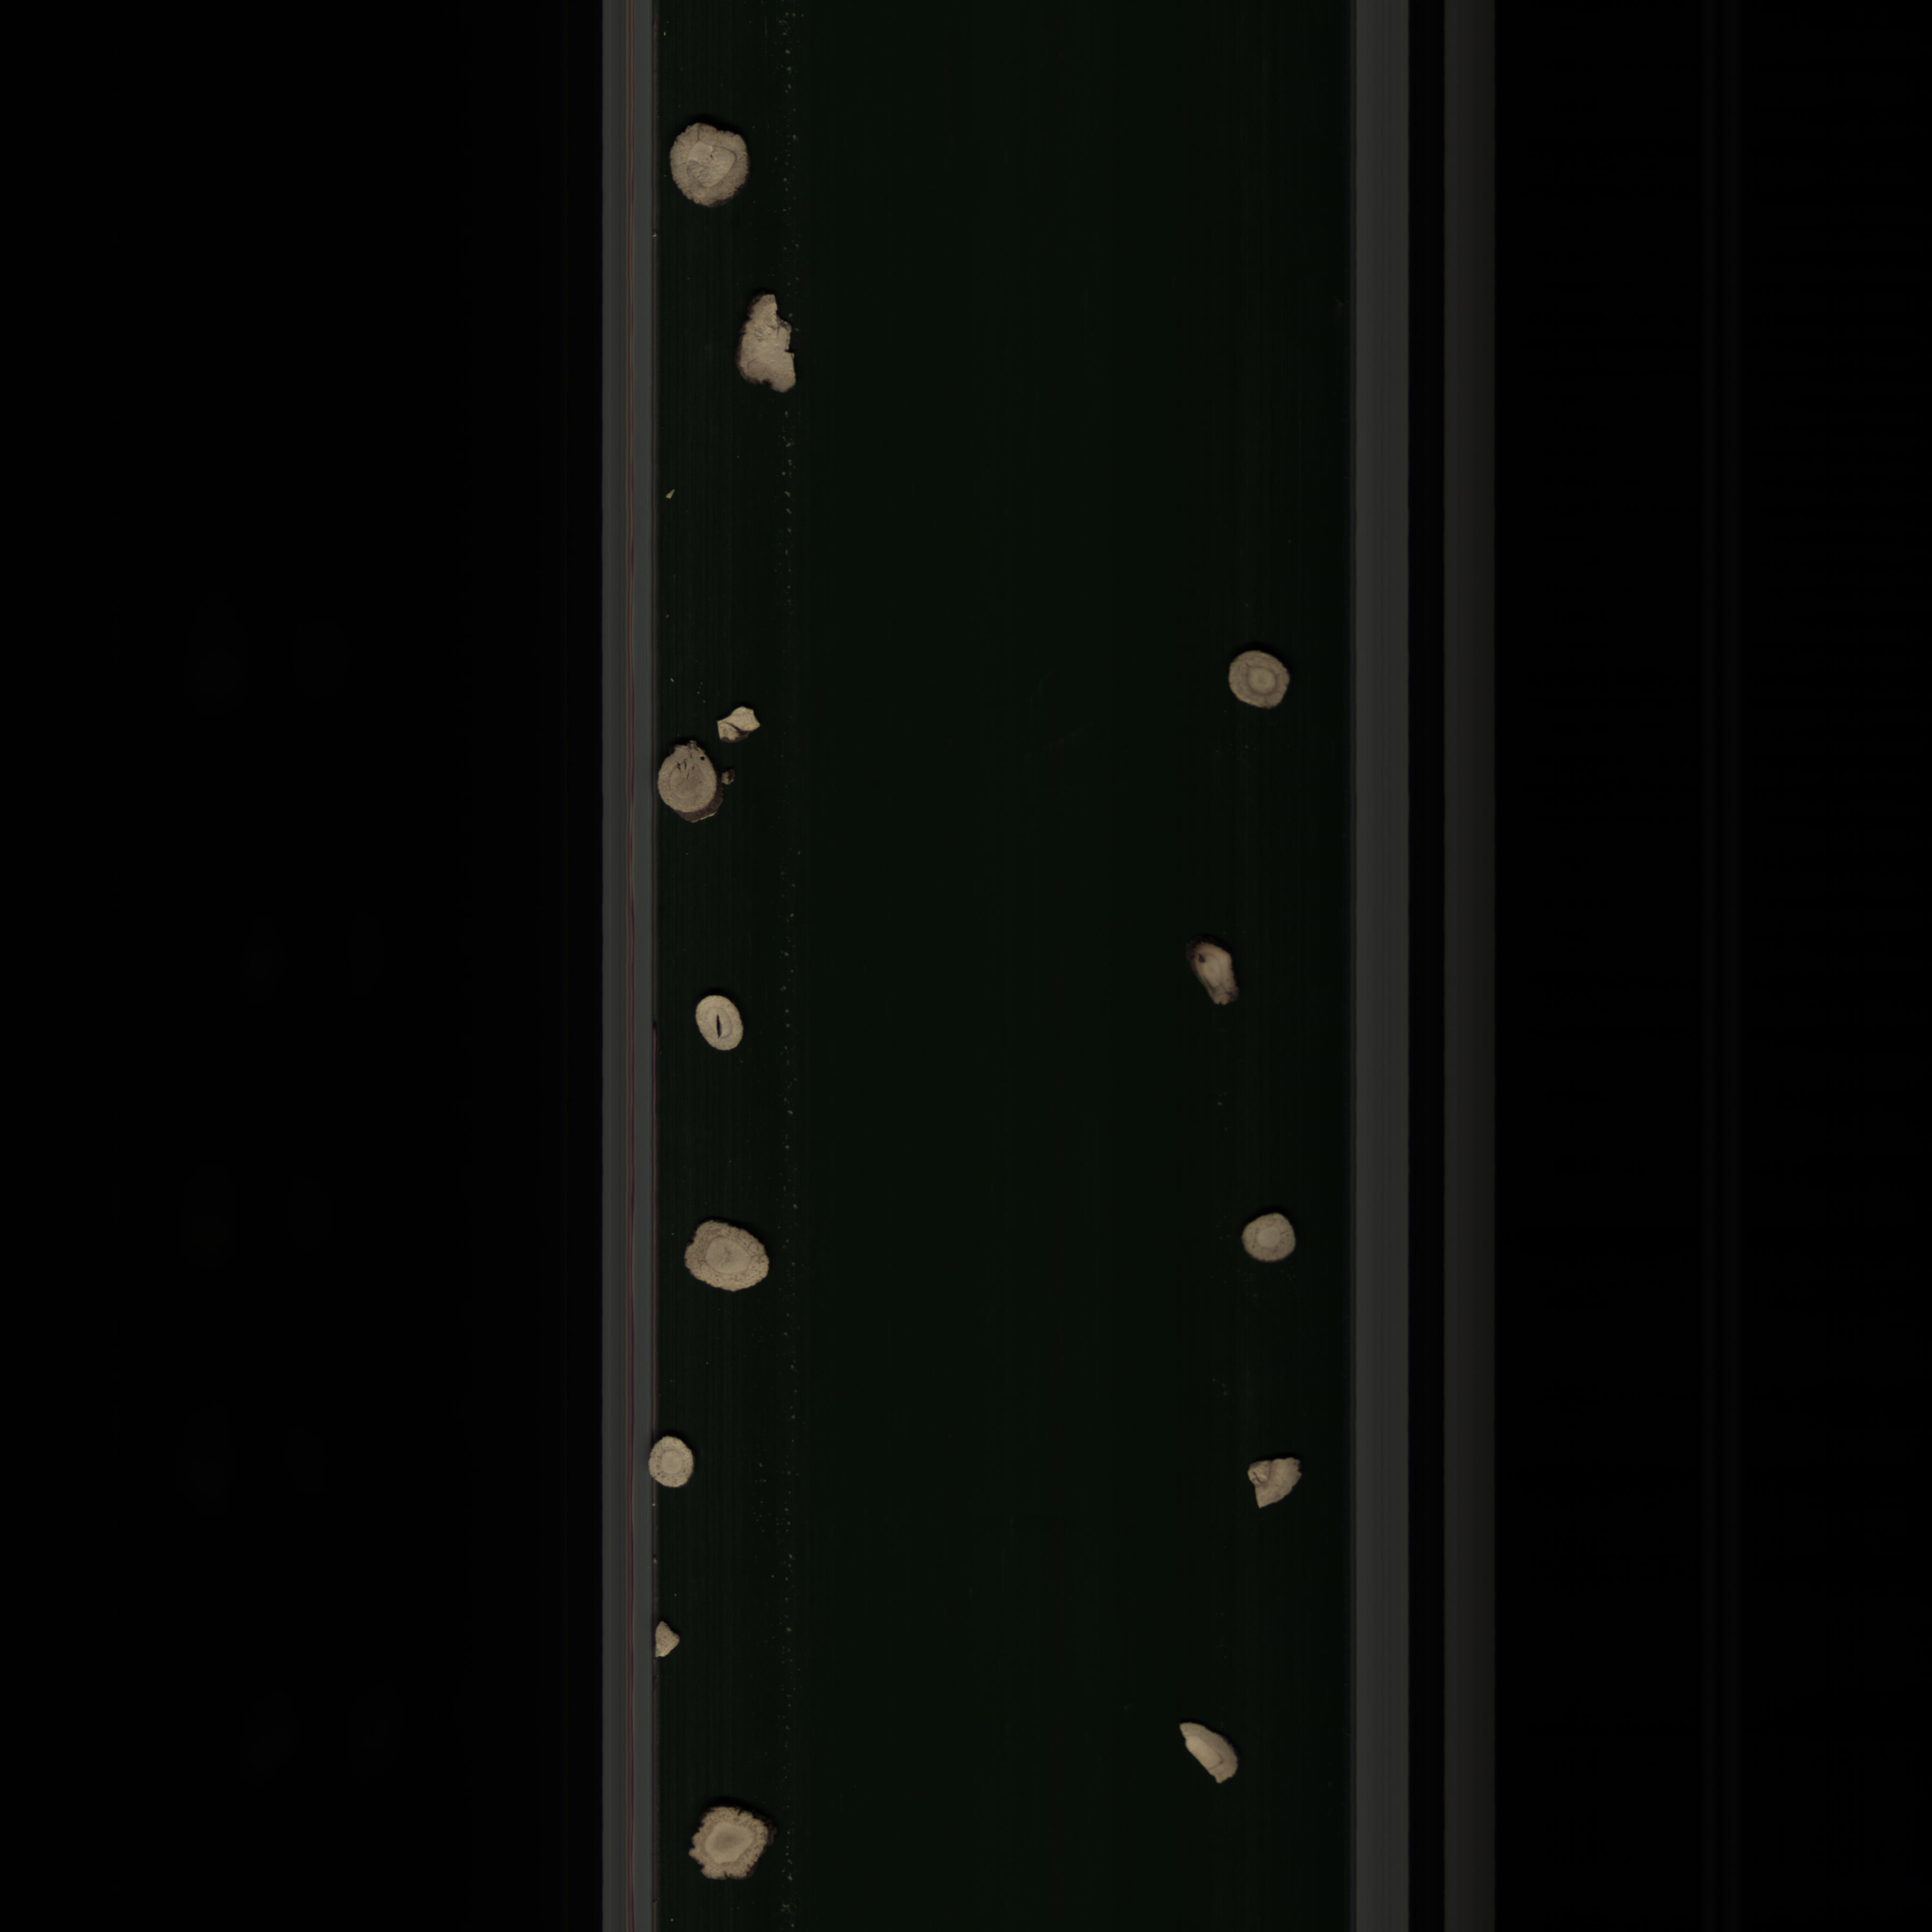bark: (1182, 932, 1254, 1024)
debris: (731, 283, 814, 398), (1168, 1714, 1246, 1790), (1242, 1451, 1309, 1513), (706, 704, 764, 741), (646, 1617, 686, 1663)
distortion: (685, 1798, 782, 1893)
hole: (692, 994, 752, 1056)
